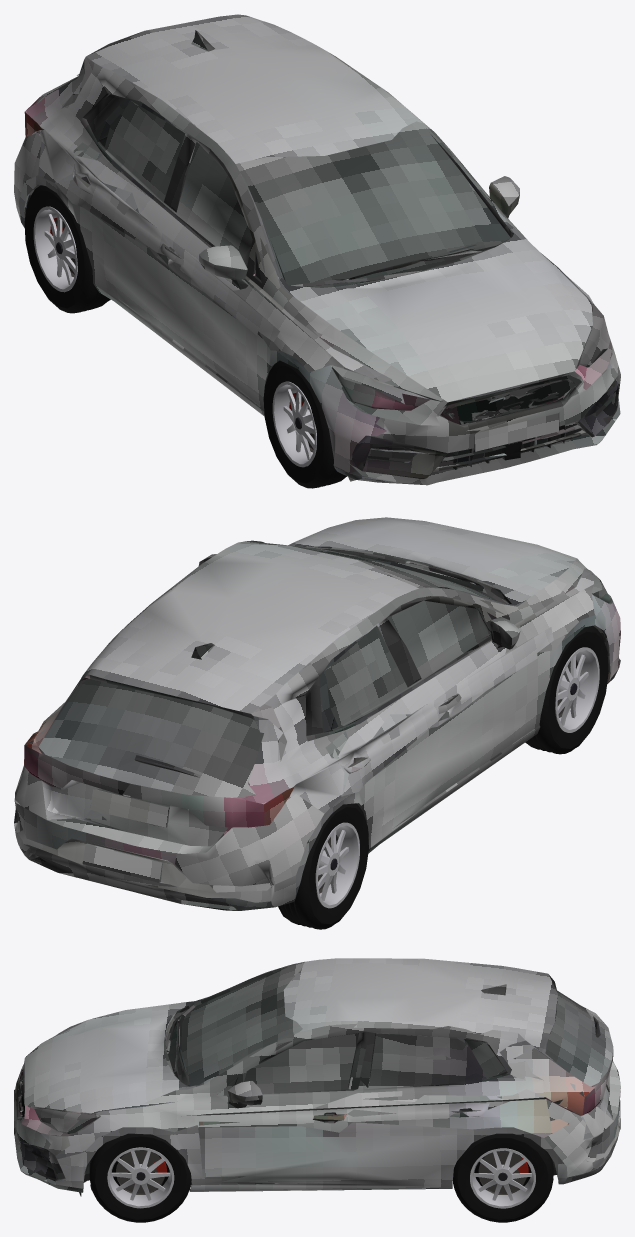
Rendered from kompakt_m.glb.
The picture shows the model from 3 angles, top to bottom: view 1: azimuth 30°, elevation 25°; view 2: azimuth 150°, elevation 25°; view 3: azimuth 270°, elevation 25°; orthographic projection. The views are drawn at different scales.
Visible parts, largest first — view 1: karosserie, rad_vr, rad_hr; view 2: karosserie, rad_hr, rad_vr; view 3: karosserie, rad_vl, rad_hl.
Boxes of the visible parts, x1,y1,x2,y2 form: karosserie: (14, 14, 620, 485); rad_vr: (263, 360, 346, 488); rad_hr: (24, 185, 110, 313); karosserie: (14, 517, 620, 910); rad_hr: (278, 803, 368, 929); rad_vr: (525, 625, 608, 754); karosserie: (14, 958, 620, 1200); rad_vl: (89, 1133, 191, 1222); rad_hl: (453, 1133, 553, 1222).
Size of the model in its own units: 1.95 by 1.46 by 4.28.
3 materials, 1 textured.
